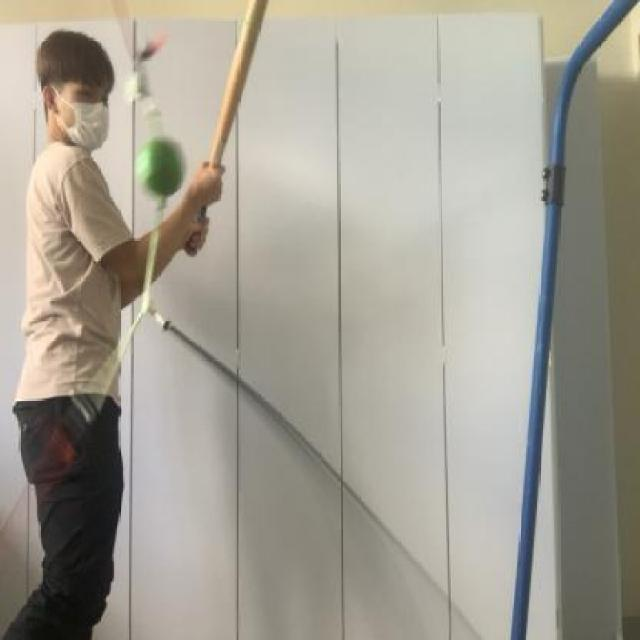baseball: (131, 128, 189, 209)
